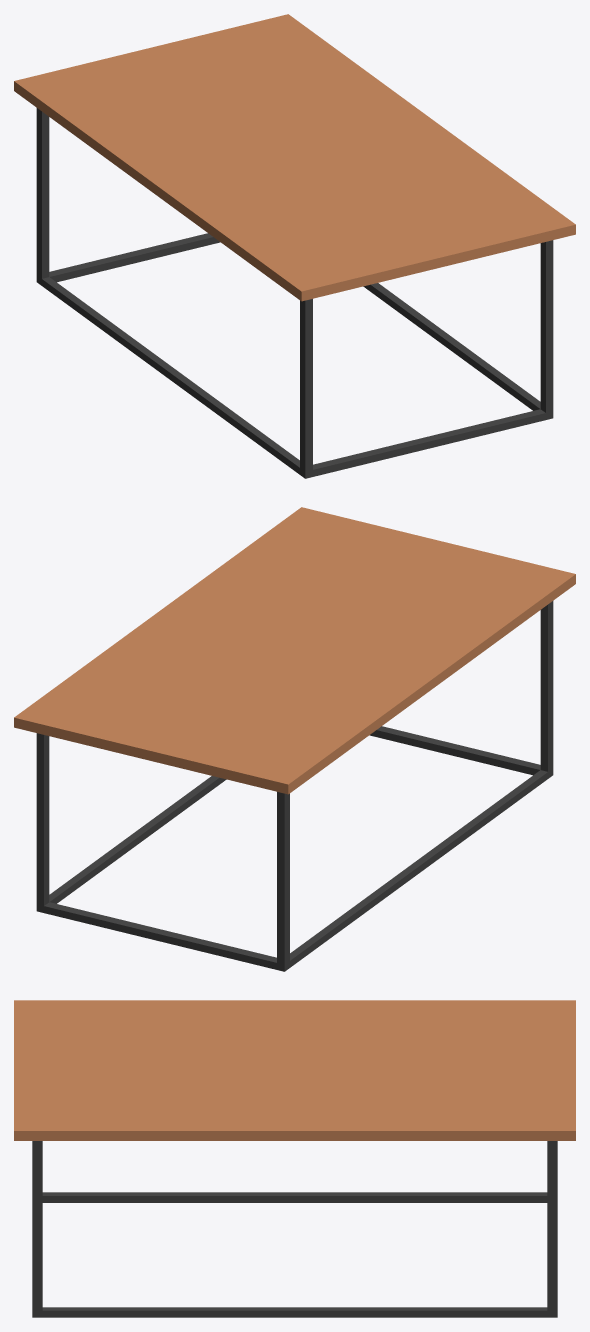
The model's file is столцелый.fbx.
3 renders of one model, top to bottom at view 1: azimuth 30°, elevation 25°; view 2: azimuth 150°, elevation 25°; view 3: azimuth 270°, elevation 25°, orthographic. The views are drawn at different scales.
Parts seen in each view (by area): view 1: Cube.001, Cube; view 2: Cube.001, Cube; view 3: Cube.001, Cube.
Boxes of the visible parts, x1,y1,x2,y2 form: Cube.001: (14,14,575,301); Cube: (36,108,553,478); Cube.001: (14,507,575,794); Cube: (36,601,553,971); Cube.001: (14,1000,575,1140); Cube: (32,1141,557,1317).
Bounding box in the file's own units: 409 × 281 × 743.
